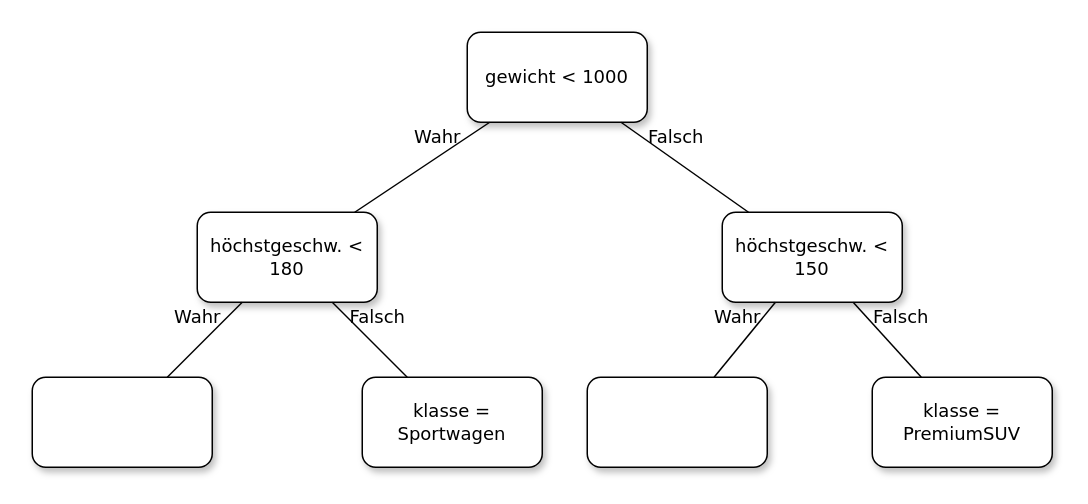
This 1088x504 diagram has some shape labels left out. The shapes that lost their labels are listed below. From the top down, each one's centre as x and y in pixels, then its label:
point 123,424: klasse = Kleinwagen
point 678,424: klasse = Kleintransporter
